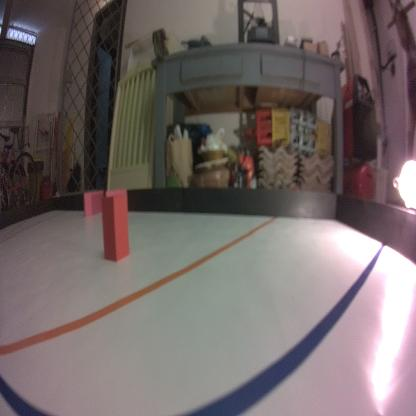magenta: (83, 188, 103, 216)
red: (100, 194, 131, 262)
